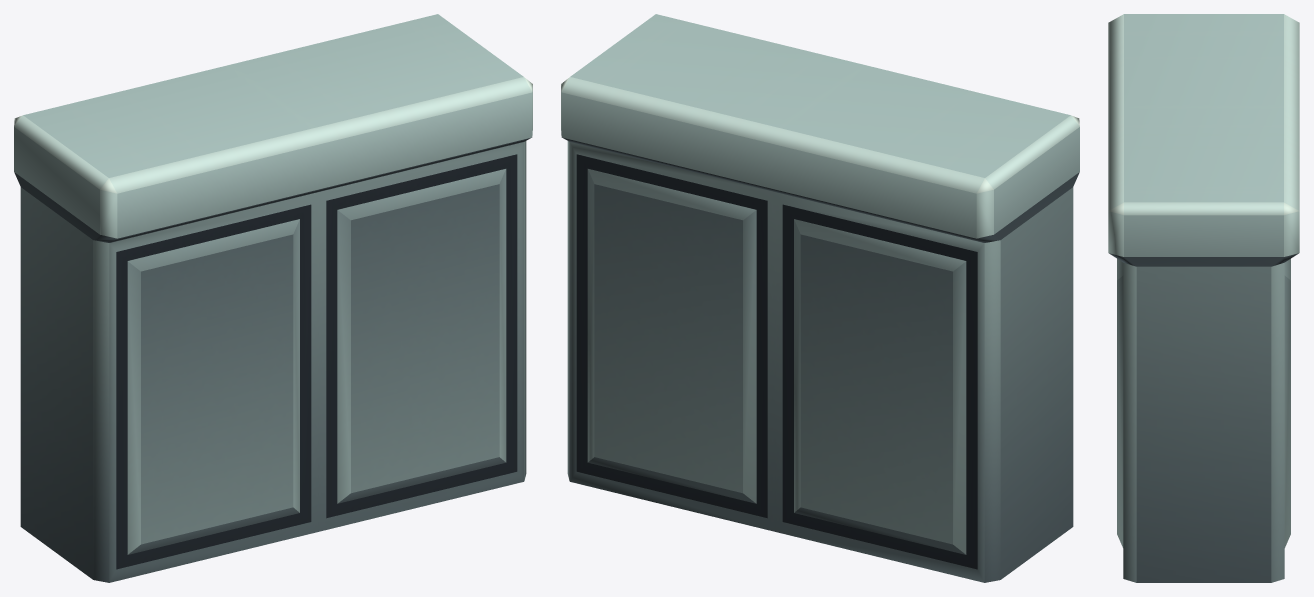
File: Electrical_Box.fbx
3 renders of one model, left to right at view 1: azimuth 30°, elevation 25°; view 2: azimuth 150°, elevation 25°; view 3: azimuth 270°, elevation 25°, orthographic. The views are drawn at different scales.
Visible parts, largest first — view 1: Electrical_Box; view 2: Electrical_Box; view 3: Electrical_Box.
Part boxes in pixels (box(x1,y1,x2,y2)): Electrical_Box: box(14, 14, 532, 582); Electrical_Box: box(561, 14, 1079, 582); Electrical_Box: box(1108, 14, 1299, 582).
Size of the model in its own units: 112 by 100 by 46.03.
